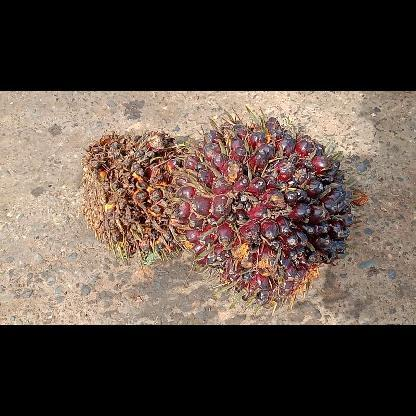Kurang masak: (170, 106, 360, 314)
TBS abnormal: (81, 131, 189, 267)
